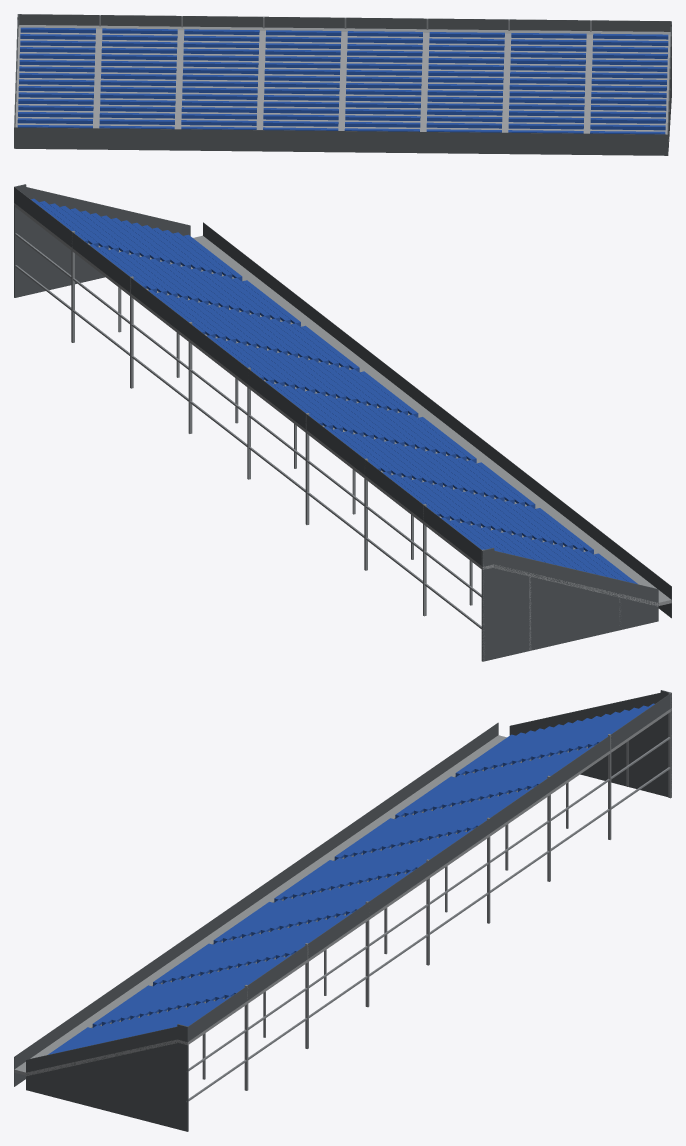
File: spa_stand_gold7ter.glb
The picture shows the model from 3 angles, top to bottom: view 1: azimuth 30°, elevation 25°; view 2: azimuth 150°, elevation 25°; view 3: azimuth 270°, elevation 25°; orthographic projection. The views are drawn at different scales.
Parts seen in each view (by area): view 1: spa-gold7ter; view 2: spa-gold7ter; view 3: spa-gold7ter.
Boxes of the visible parts, x1=… form: spa-gold7ter: x1=14, y1=14, x2=671, y2=155; spa-gold7ter: x1=14, y1=184, x2=671, y2=661; spa-gold7ter: x1=14, y1=690, x2=671, y2=1131.
Bounding box in the file's own units: 64.89 × 8.36 × 47.56.
